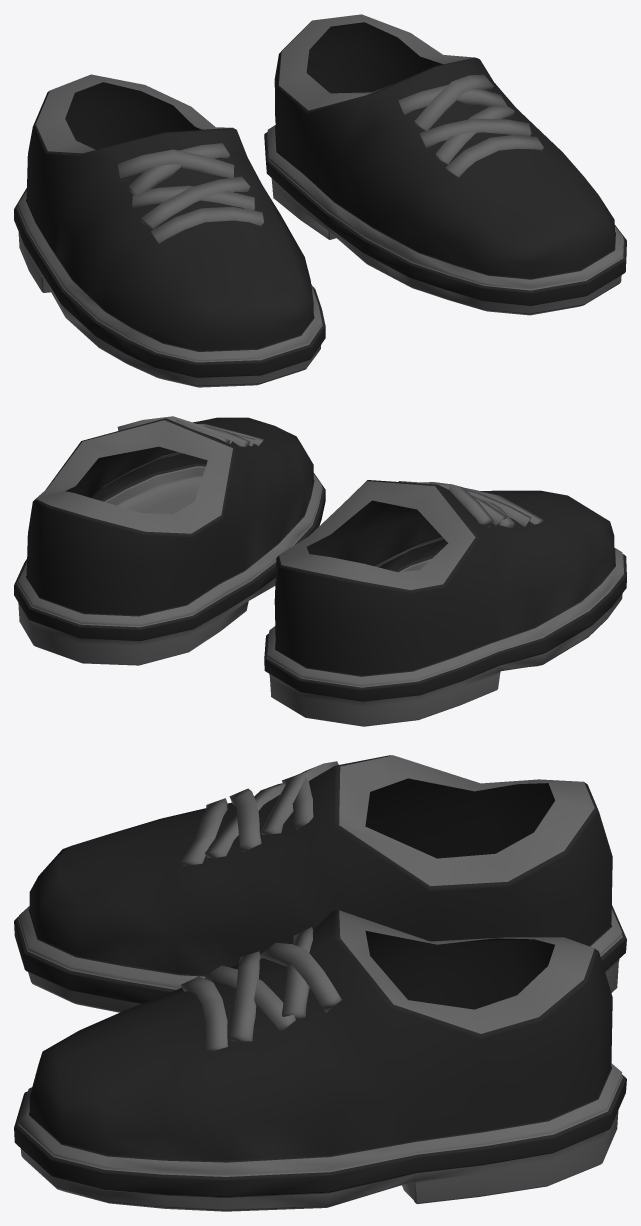
File: Shoe_Sneaker_005.glb
3 renders of one model, top to bottom at view 1: azimuth 30°, elevation 25°; view 2: azimuth 150°, elevation 25°; view 3: azimuth 270°, elevation 25°, orthographic. The views are drawn at different scales.
Visible parts, largest first — view 1: Shoe_Sneaker_005; view 2: Shoe_Sneaker_005; view 3: Shoe_Sneaker_005.
Boxes of the visible parts, left/top/right/bottom form: Shoe_Sneaker_005: left=14, top=14, right=626, bottom=387; Shoe_Sneaker_005: left=14, top=416, right=626, bottom=726; Shoe_Sneaker_005: left=14, top=755, right=626, bottom=1211.
Size of the model in its own units: 0.4328 by 0.1332 by 0.3551.
1 material, 1 textured.
